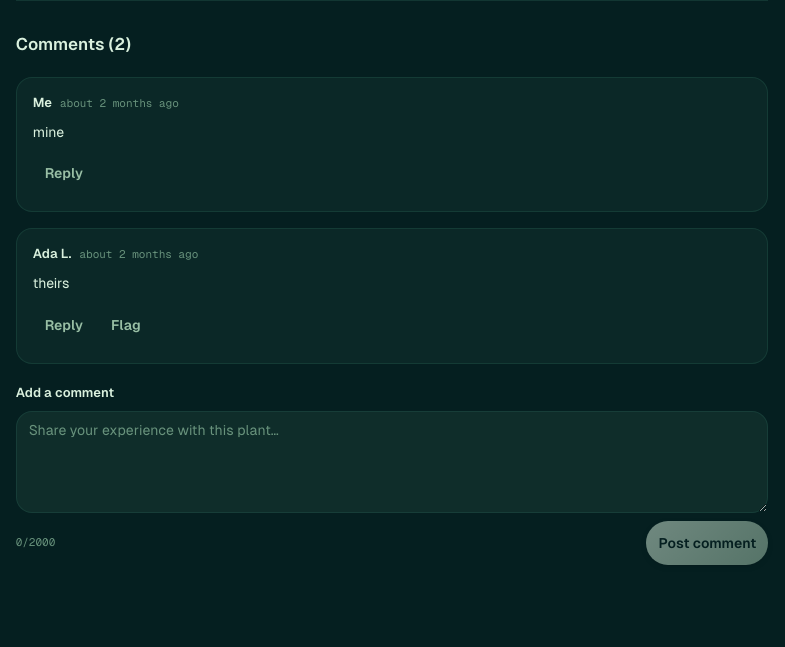
Scenario: BlogCommentSection (todo 352) › flag flow: no Flag on my own comment; flagging another marks it "Flagged" and announces the server detail
This screenshot has width=785, height=647.
Expected: the button "Reply" below "mine" is shown, [33,151,95,195]
Click the button "Flag" at (126, 325), box [99,303,153,347]
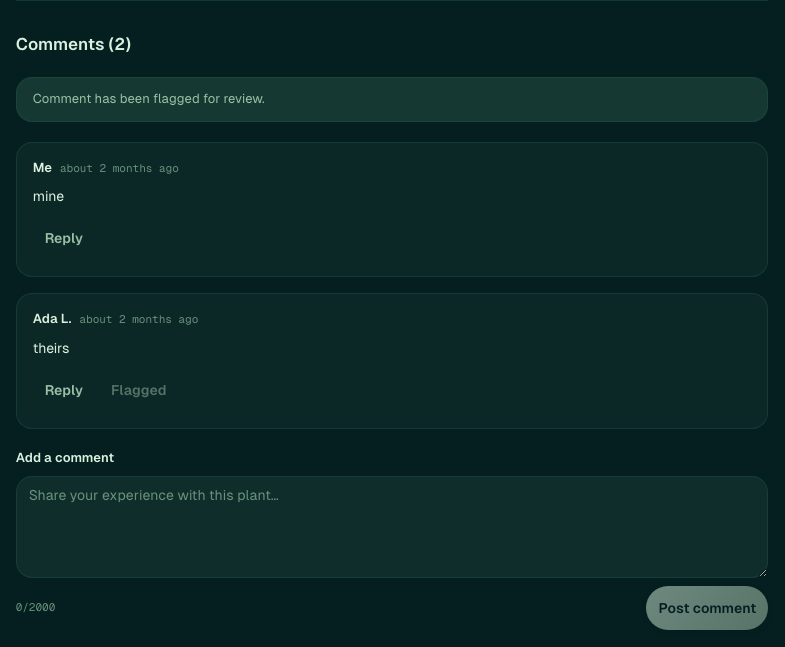
Result: the button "Flagged" is disabled at [99,368,179,412]
Result: the text with test id "blog-comments-notice" reads "Comment has been flagged for review." at [33,91,265,106]
